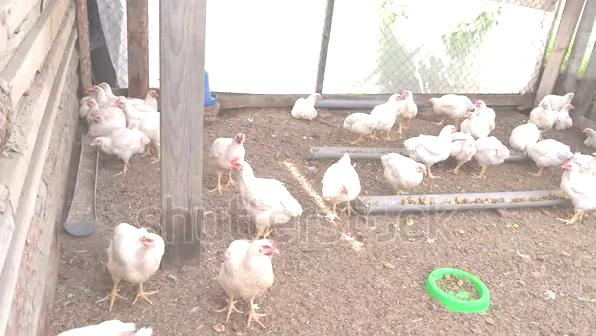Pollos: (229, 158, 302, 226), (102, 223, 164, 283), (221, 235, 279, 297), (558, 158, 596, 214), (91, 132, 148, 164), (321, 158, 360, 202), (380, 152, 429, 186), (520, 137, 567, 169), (422, 122, 459, 153), (474, 135, 507, 167), (341, 112, 379, 138), (291, 93, 324, 117), (374, 94, 398, 127), (217, 128, 245, 156), (114, 101, 144, 127), (427, 93, 460, 116), (552, 102, 577, 132), (402, 88, 421, 121), (461, 112, 488, 135), (530, 102, 553, 126), (139, 86, 159, 108), (474, 96, 492, 113)
